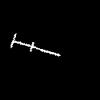double_crochet: (11, 34, 59, 55)
